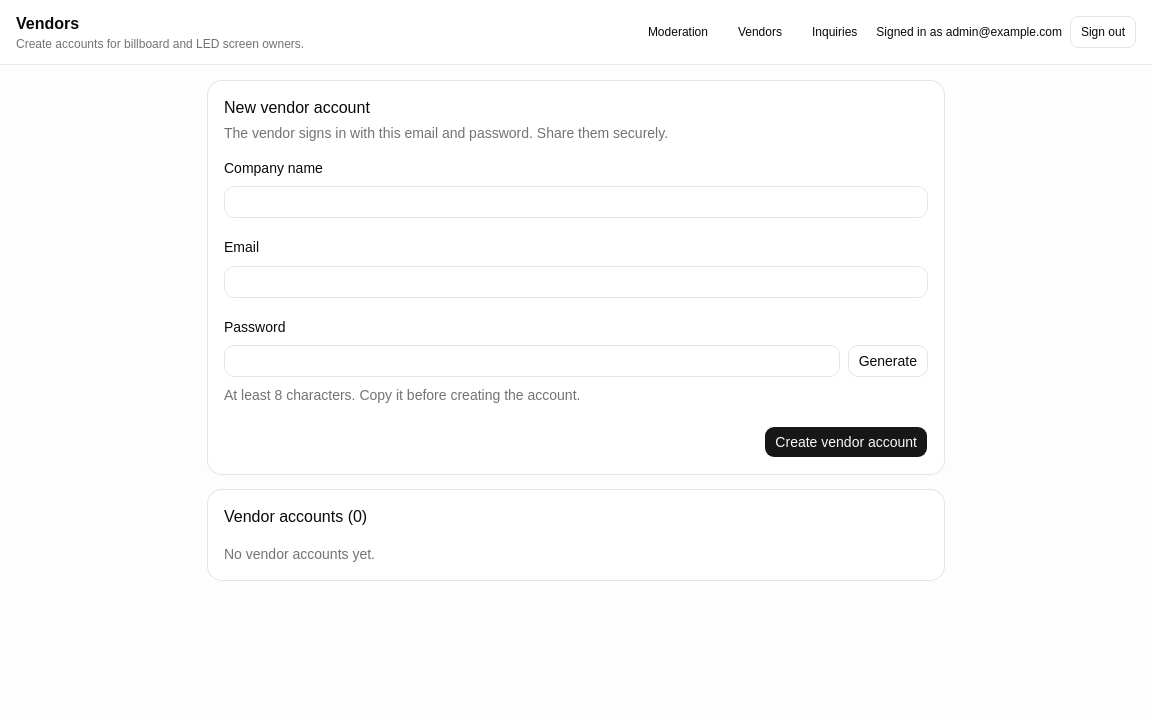
Test: AdminVendorsPage › creates a vendor, resets the form and shows the new row
Expected: the text "No vendor accounts yet." is shown, [224,546,375,562]
Type "Reklama Plus" into the field labelled "Company name". click: [576, 202]
box: [224,186,928,218]
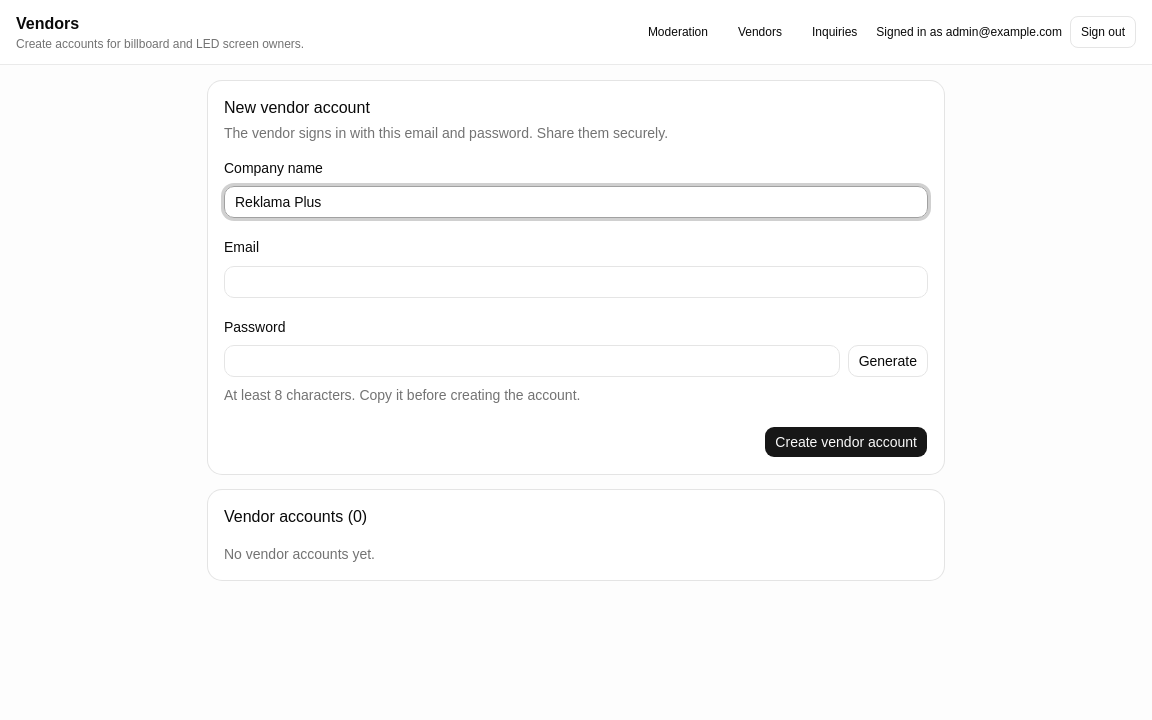
Type "sales@reklama.uz" into the field labelled "Email". click: [576, 282]
box: [224,266,928,298]
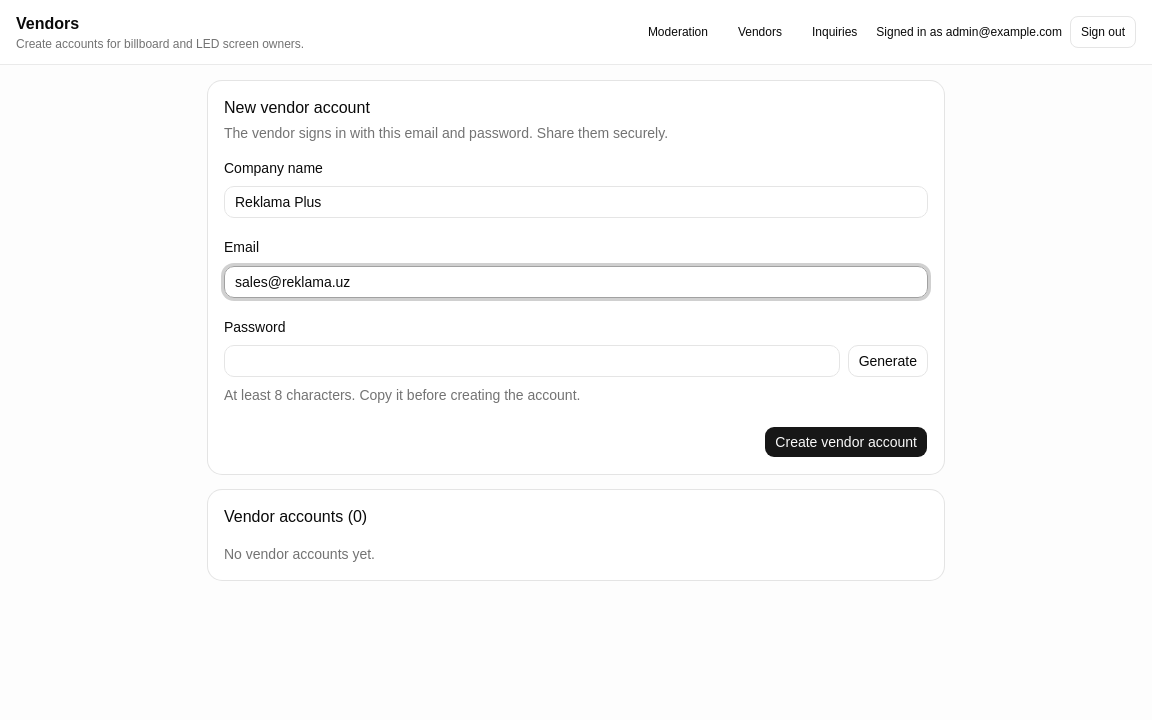
Type "long-enough" into the password field labelled "Password". click: [532, 361]
box: [224,345,840,377]
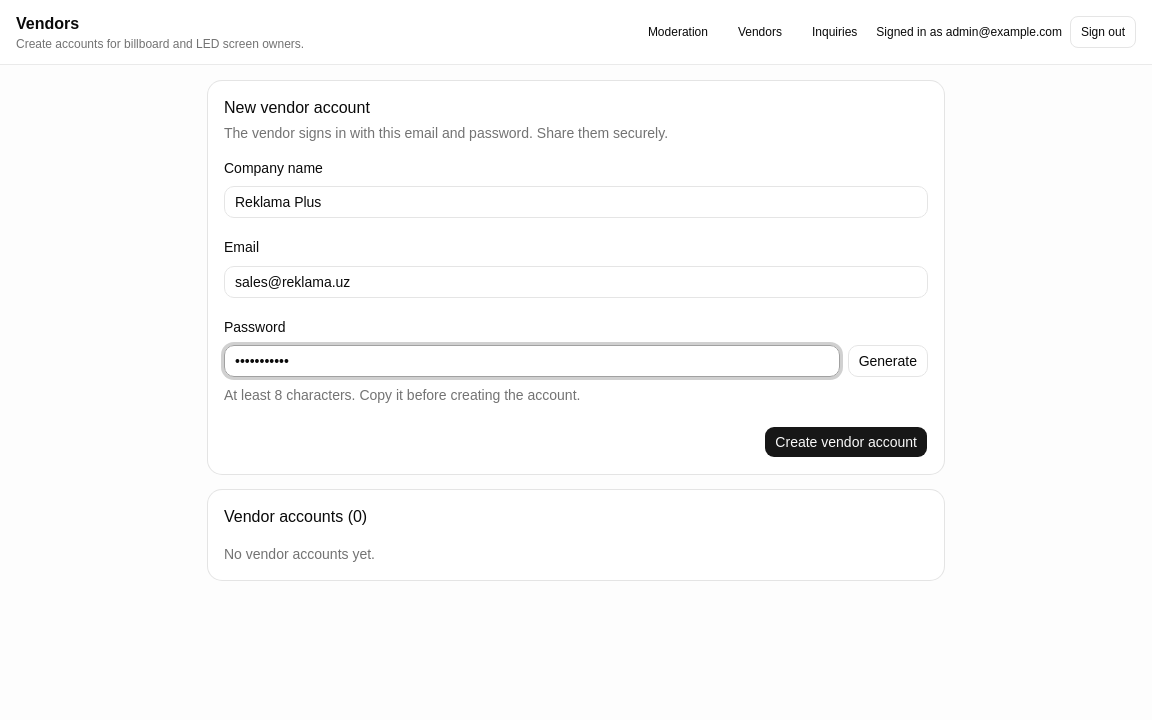
Click the button "Create vendor account". click: [846, 442]
box: [764,426,928,458]
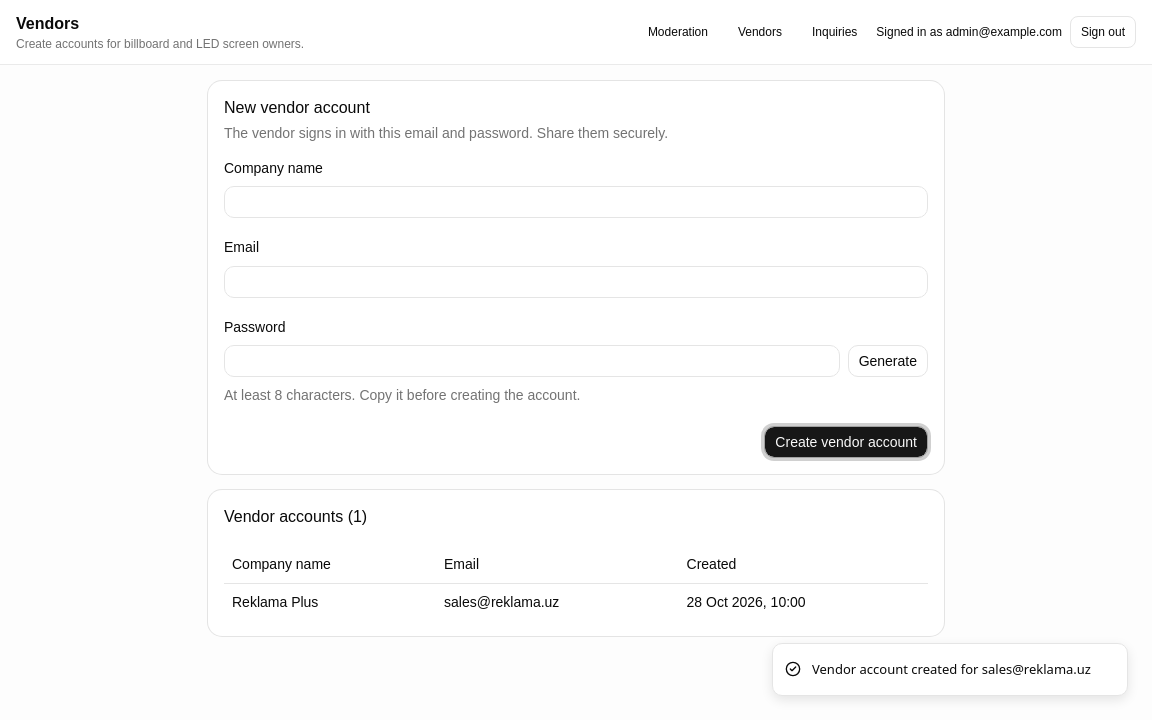
Now the text "Vendor account created for sales@reklama.uz" is shown, box [812,660,1091,679]
Now the cell "Reklama Plus" is shown, box [224,584,436,620]
Now the field labelled "Company name" is empty, box [224,186,928,218]
